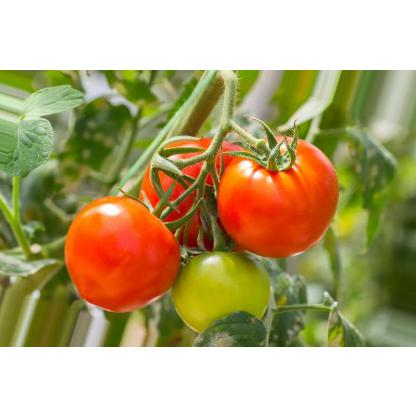tomato: (204, 123, 340, 265), (57, 194, 181, 318), (138, 127, 252, 250), (168, 245, 276, 337)
